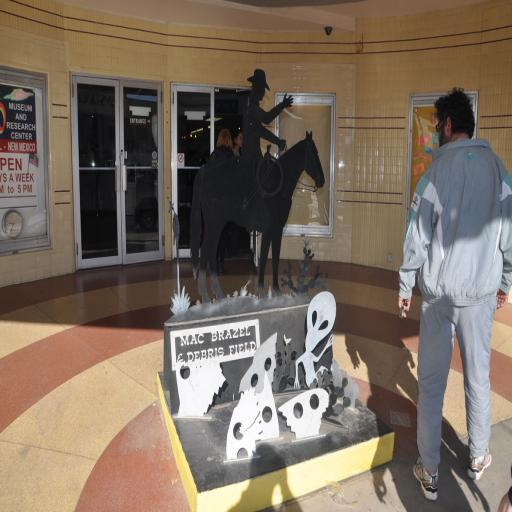horse: (188, 127, 326, 305)
